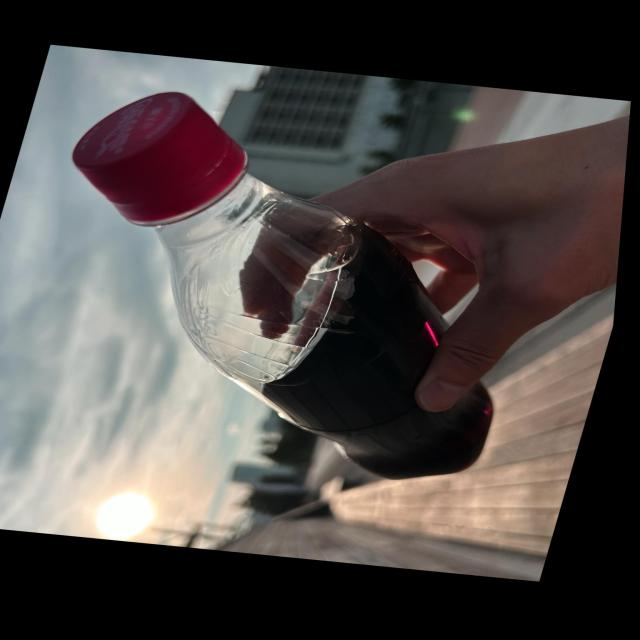medium: (72, 92, 493, 479)
